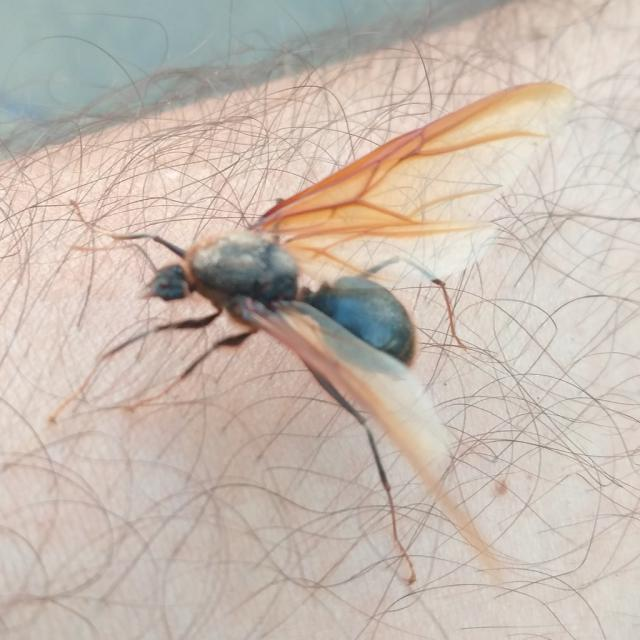Alive-Male-Alate: (46, 78, 574, 591)
